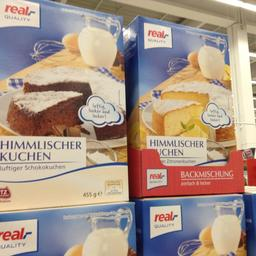cake: (0, 1, 127, 209), (130, 4, 247, 194)
